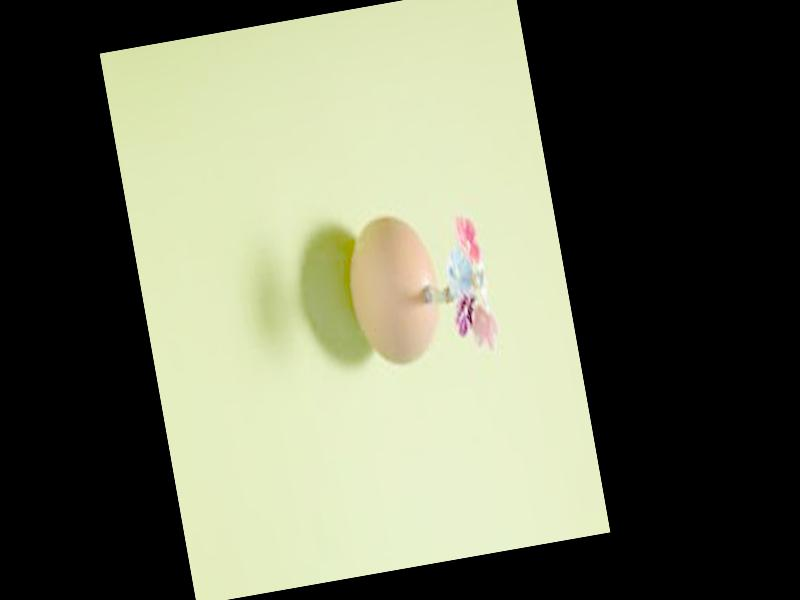Eggs: (339, 211, 448, 370)
